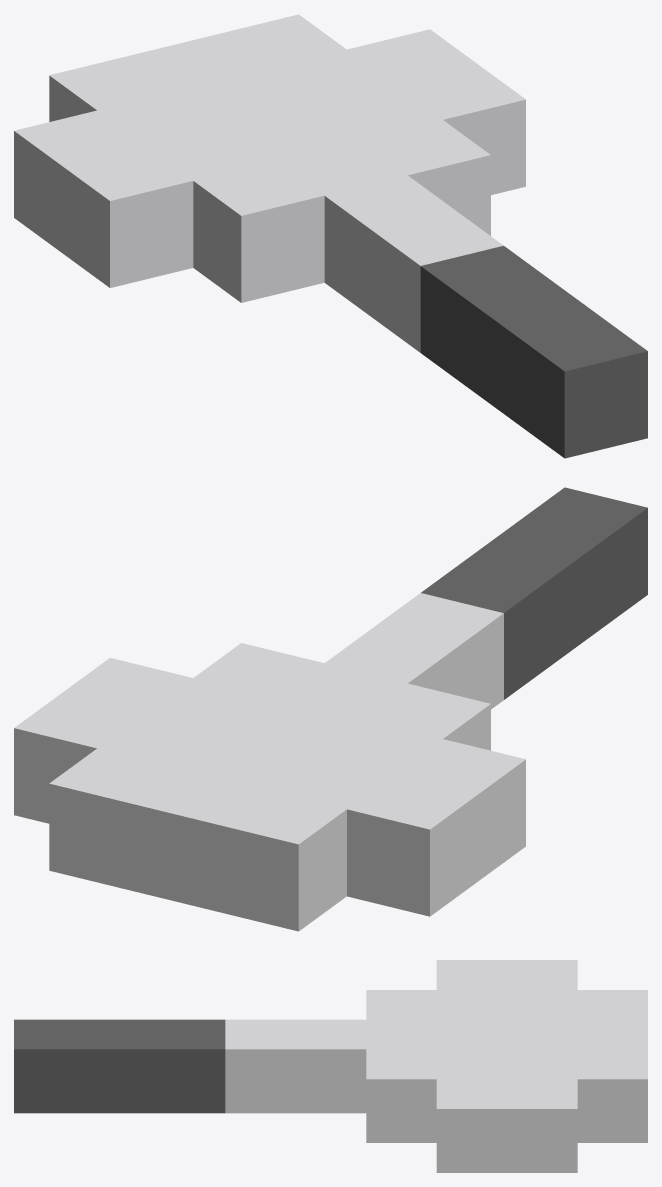
The model's file is Medieval Assets-235-Decoration - Table - Spoon.obj.
3 views of the same model, one above another, from view 1: azimuth 30°, elevation 25°; view 2: azimuth 150°, elevation 25°; view 3: azimuth 270°, elevation 25° (orthographic). The views are drawn at different scales.
Parts seen in each view (by area): view 1: Decoration - Table - Spoon; view 2: Decoration - Table - Spoon; view 3: Decoration - Table - Spoon.
Boxes of the visible parts, x1,y1,x2,y2 form: Decoration - Table - Spoon: (14,14,647,458); Decoration - Table - Spoon: (14,487,647,931); Decoration - Table - Spoon: (14,960,647,1172).
Bounding box in the file's own units: 0.5 × 0.1 × 0.9.
1 material, 1 textured.
